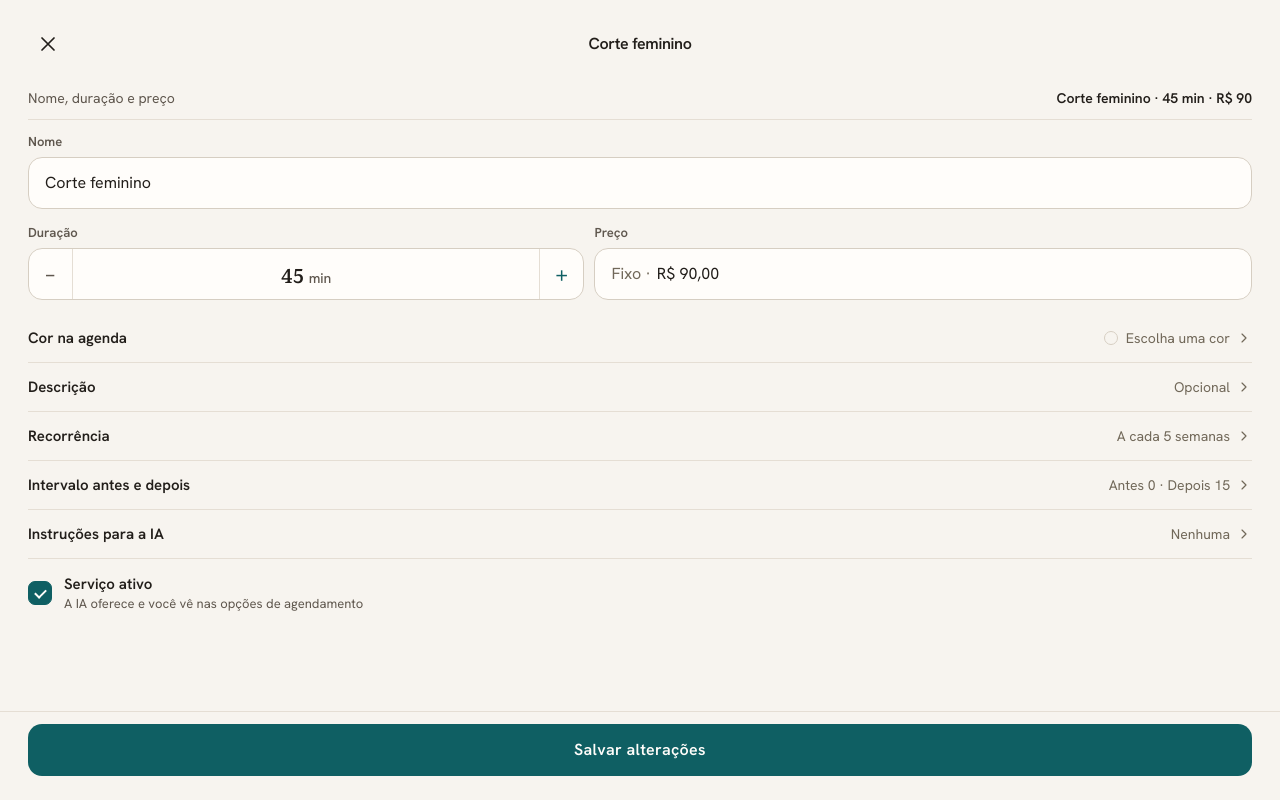
Goal095 prova 3: edição (S4 e Agenda:S1) › a prévia 'Assim na agenda' mostra a hora, o traço neutro e a linha do serviço
The image size is (1280, 800).
expect the field labelled "Nome" is shown: met, box [28,157,1252,209]
Note: Serviço anterior ao backfill de 2026-10-12, ainda sem cor: traço neutro.
Click the button "Cor na agenda Escolha uma cor" at (78, 338), box [28,314,1252,362]
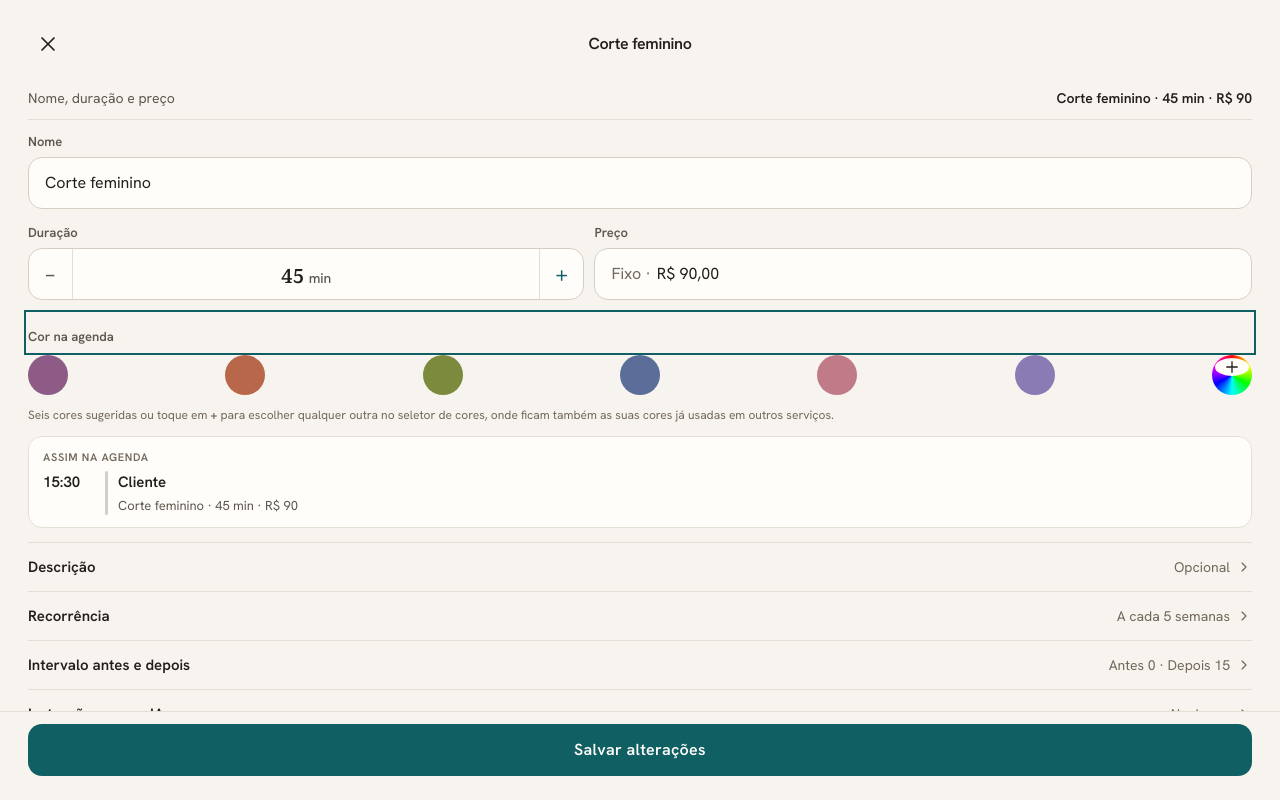
expect the text "Assim na agenda" is shown: met, box [43,450,149,464]
expect the text "15:30" is shown: met, box [43,472,80,492]
expect the text "Cliente" is shown: met, box [118,472,166,492]
